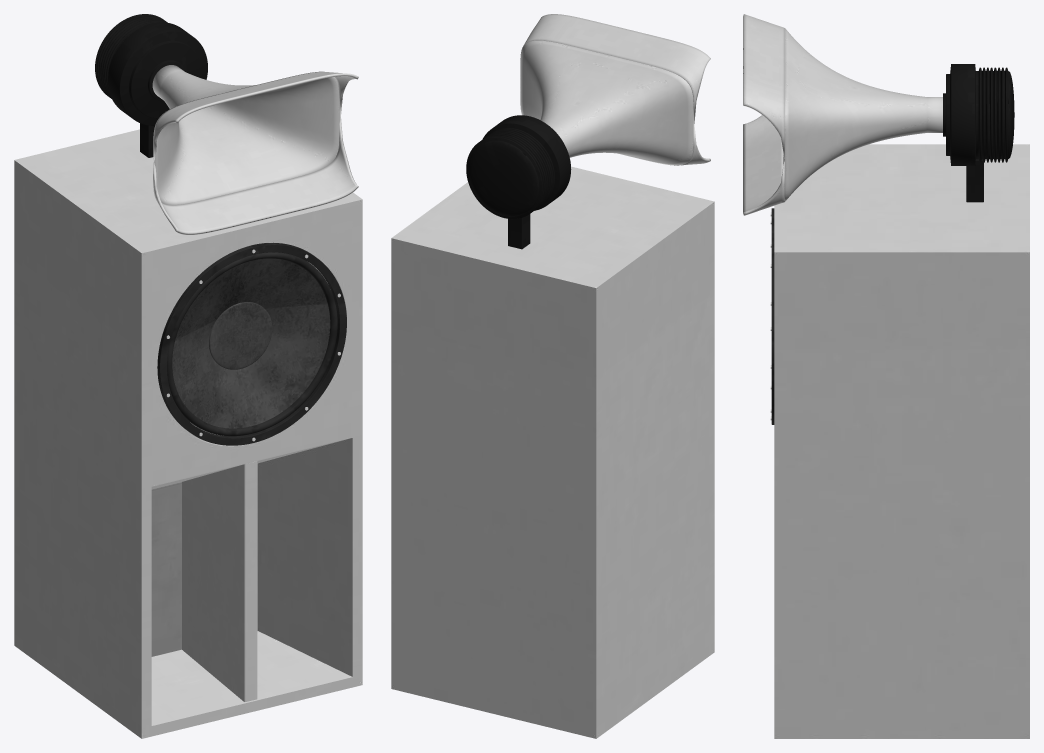
The model's file is alloy-neck.glb.
3 views of the same model, side by side, from view 1: azimuth 30°, elevation 25°; view 2: azimuth 150°, elevation 25°; view 3: azimuth 270°, elevation 25° (orthographic). The views are drawn at different scales.
Visible parts, largest first — view 1: Cabinet, Horn, Cone, Mouth fin, Driver, Horn lip bottom, Woofer frame, Surround, Dust cap, Horn lip top; view 2: Cabinet, Horn, Driver, Horn lip top, Driver post; view 3: Cabinet, Horn, Driver, Horn lip top, Horn lip bottom, Woofer frame, Driver post.
Boxes of the visible parts, <box> form: Cabinet: <box>14,129,362,738</box>; Horn: <box>152,65,339,204</box>; Cone: <box>172,258,330,428</box>; Mouth fin: <box>182,461,257,701</box>; Driver: <box>95,14,207,125</box>; Horn lip bottom: <box>153,116,358,234</box>; Woofer frame: <box>157,242,346,445</box>; Surround: <box>167,252,337,436</box>; Dust cap: <box>209,302,272,369</box>; Horn lip top: <box>153,71,358,162</box>; Cabinet: <box>391,166,714,738</box>; Horn: <box>520,40,693,165</box>; Driver: <box>466,115,571,218</box>; Horn lip top: <box>520,14,710,123</box>; Driver post: <box>508,214,530,249</box>; Cabinet: <box>774,144,1029,738</box>; Horn: <box>783,28,942,201</box>; Driver: <box>943,64,1014,165</box>; Horn lip top: <box>743,14,784,159</box>; Horn lip bottom: <box>743,115,784,215</box>; Woofer frame: <box>771,208,774,424</box>; Driver post: <box>966,159,983,202</box>.
Size of the model in its own units: 0.25 by 0.6849 by 0.2804.
Materials: 24 (23 with a texture image).
